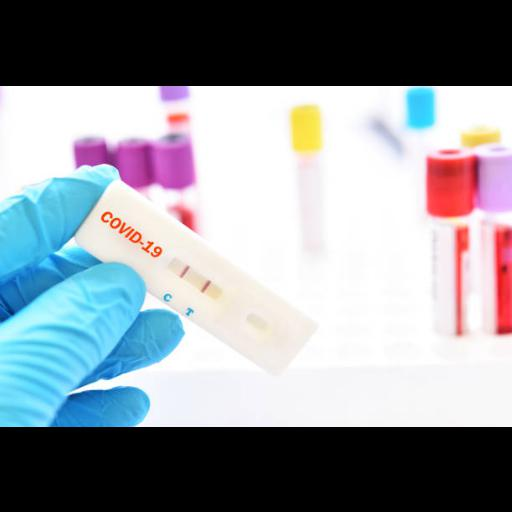Pos: (74, 179, 319, 377)
